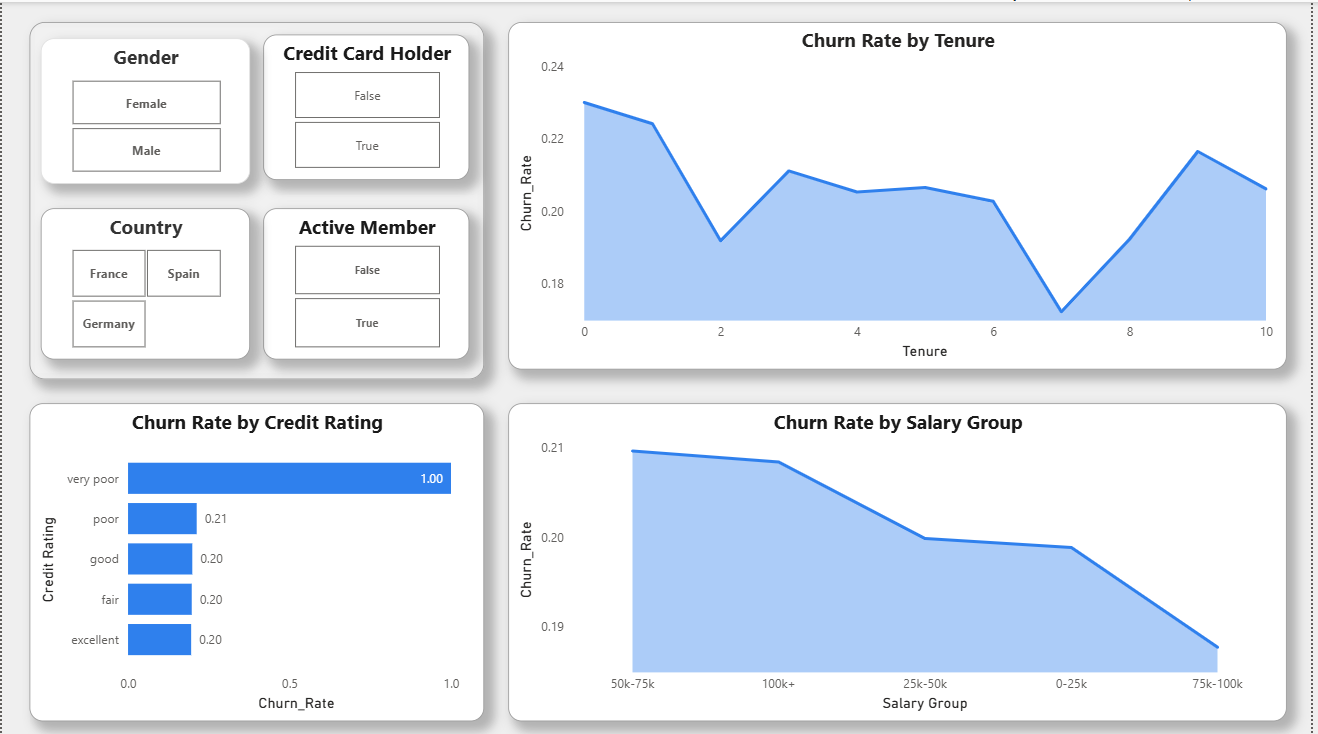

Layout of this report page (visuals, bound fields, positions):
{"tool":"powerbi","page":{"name":"Financial & Behavioral Churn Insights","canvas":[1280,720],"ordinal":3},"visuals":[{"type":"areaChart","title":"Churn Rate by Tenure","fields":{"Y":["Churn_Modelling.Churn_Rate"],"Category":["Churn_Modelling.Tenure"]},"box":[495.4,19.2,761.6,340.3],"z":0},{"type":"shape","box":[27.4,19.2,444.6,349.9],"z":500},{"type":"slicer","title":"Credit Card Holder","fields":{"Values":["Churn_Modelling.HasCrCard"]},"box":[255.2,31.6,201.7,142.7],"z":1000},{"type":"areaChart","title":"Churn Rate by Salary Group","fields":{"Y":["Churn_Modelling.Churn_Rate"],"Category":["Churn_Modelling.Salary Group"]},"box":[495.4,392.5,761.6,311.5],"z":2000},{"type":"slicer","title":"Active Member","fields":{"Values":["Churn_Modelling.IsActiveMember"]},"box":[255.2,201.7,201.7,148.2],"z":3000},{"type":"barChart","title":"Churn Rate by Credit Rating","fields":{"Category":["Churn_Modelling.Credit Rating"],"Y":["Churn_Modelling.Churn_Rate"]},"box":[27.4,392.5,444.6,311.5],"z":4000},{"type":"slicer","title":"Gender","fields":{"Values":["Churn_Modelling.Gender"]},"box":[38.4,35.7,204.5,142.7],"z":5000},{"type":"slicer","title":"Country","fields":{"Values":["Churn_Modelling.Geography"]},"box":[38.4,201.7,204.5,148.2],"z":6000}]}

Visuals, with their boxes in screenshot pixels (x1, y1, x2, y2), scaled from the page's 1280x720 canvas onto the 1318x734 screenshot:
"Churn Rate by Tenure" areaChart: [x1=510, y1=20, x2=1294, y2=366]
shape: [x1=28, y1=20, x2=486, y2=376]
"Credit Card Holder" slicer: [x1=263, y1=32, x2=470, y2=178]
"Churn Rate by Salary Group" areaChart: [x1=510, y1=400, x2=1294, y2=718]
"Active Member" slicer: [x1=263, y1=206, x2=470, y2=357]
"Churn Rate by Credit Rating" barChart: [x1=28, y1=400, x2=486, y2=718]
"Gender" slicer: [x1=40, y1=36, x2=250, y2=182]
"Country" slicer: [x1=40, y1=206, x2=250, y2=357]
